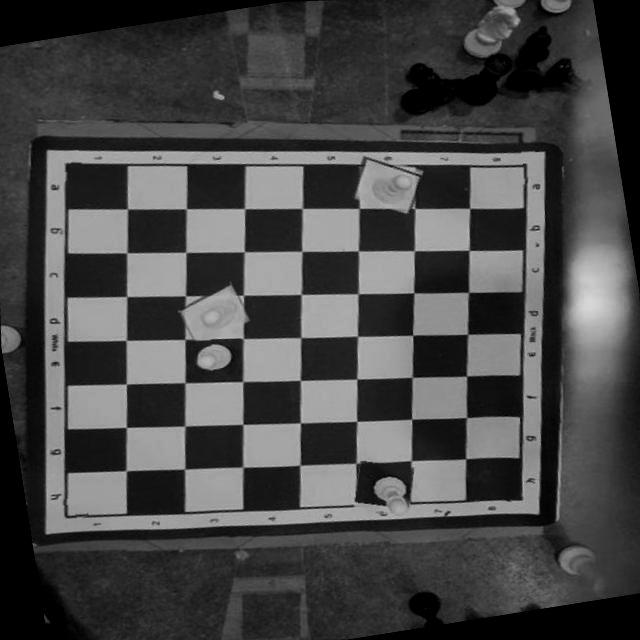chess-table-corners: (506, 150, 540, 186), (502, 481, 536, 514), (48, 496, 88, 524), (50, 150, 83, 183)
